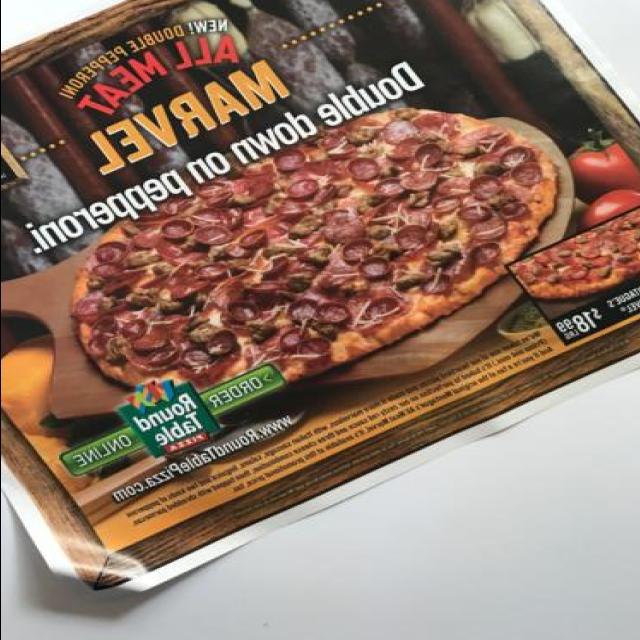kertas: (0, 0, 640, 596)
